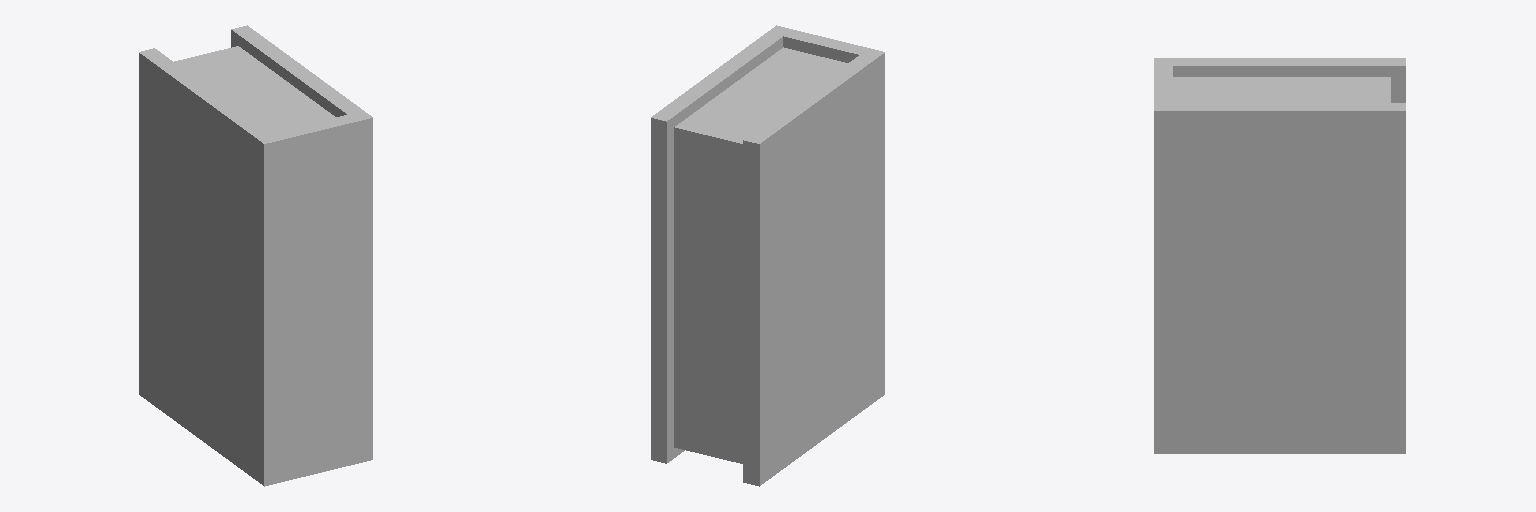
The model's file is prop_libroGrande.obj.
The picture shows the model from 3 angles: view 1: azimuth 30°, elevation 25°; view 2: azimuth 150°, elevation 25°; view 3: azimuth 270°, elevation 25°; orthographic projection.
Parts seen in each view (by area): view 1: libroGrande; view 2: libroGrande; view 3: libroGrande.
Part boxes in pixels (bbox=[...]): libroGrande: bbox=[139, 25, 372, 486]; libroGrande: bbox=[651, 25, 884, 486]; libroGrande: bbox=[1154, 58, 1405, 453].
Size of the model in its own units: 0.13 by 0.39 by 0.26.